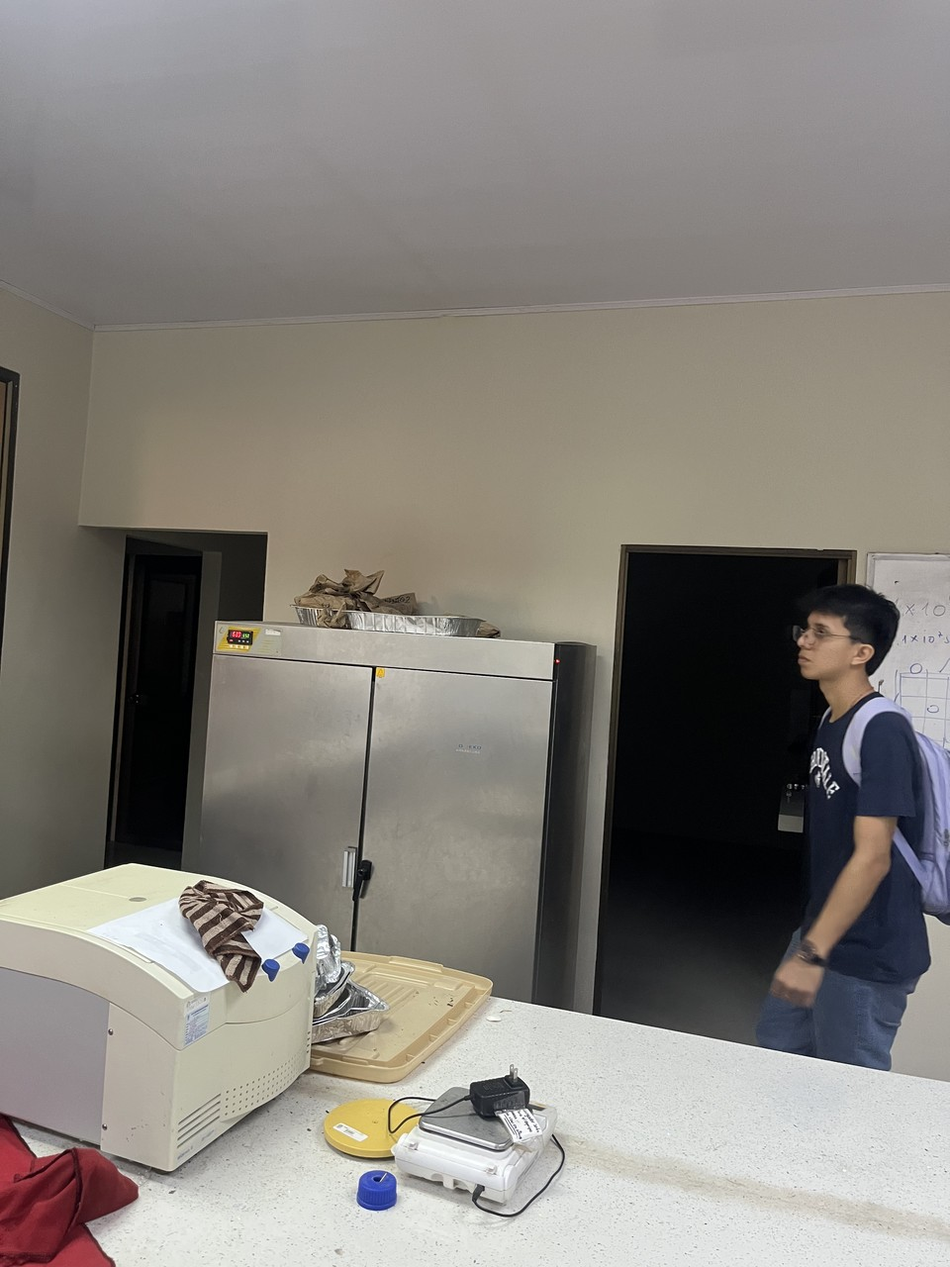ankom_estufa: (181, 567, 622, 1009)
